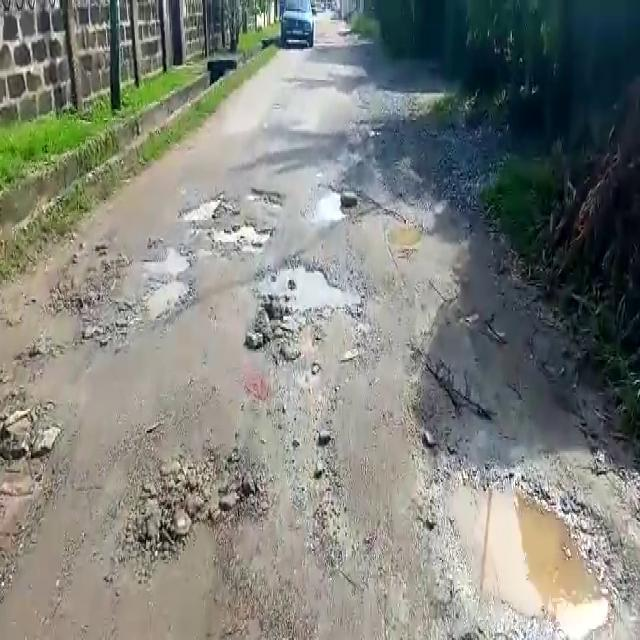pothole: (414, 472, 634, 633), (261, 261, 361, 303), (208, 218, 273, 252), (304, 185, 352, 224), (181, 196, 227, 226), (382, 217, 425, 247)
